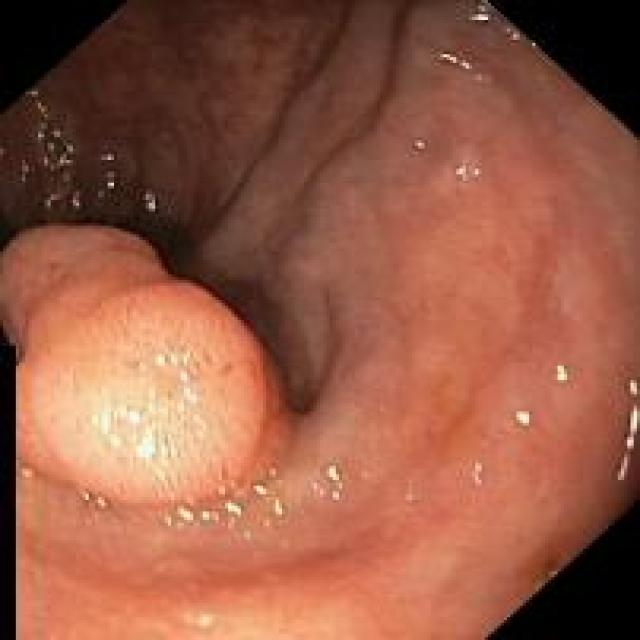Polyps: (1, 225, 290, 506)
